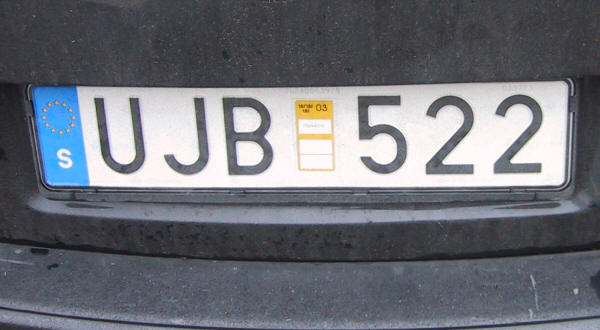license_plate: (29, 77, 572, 189)
